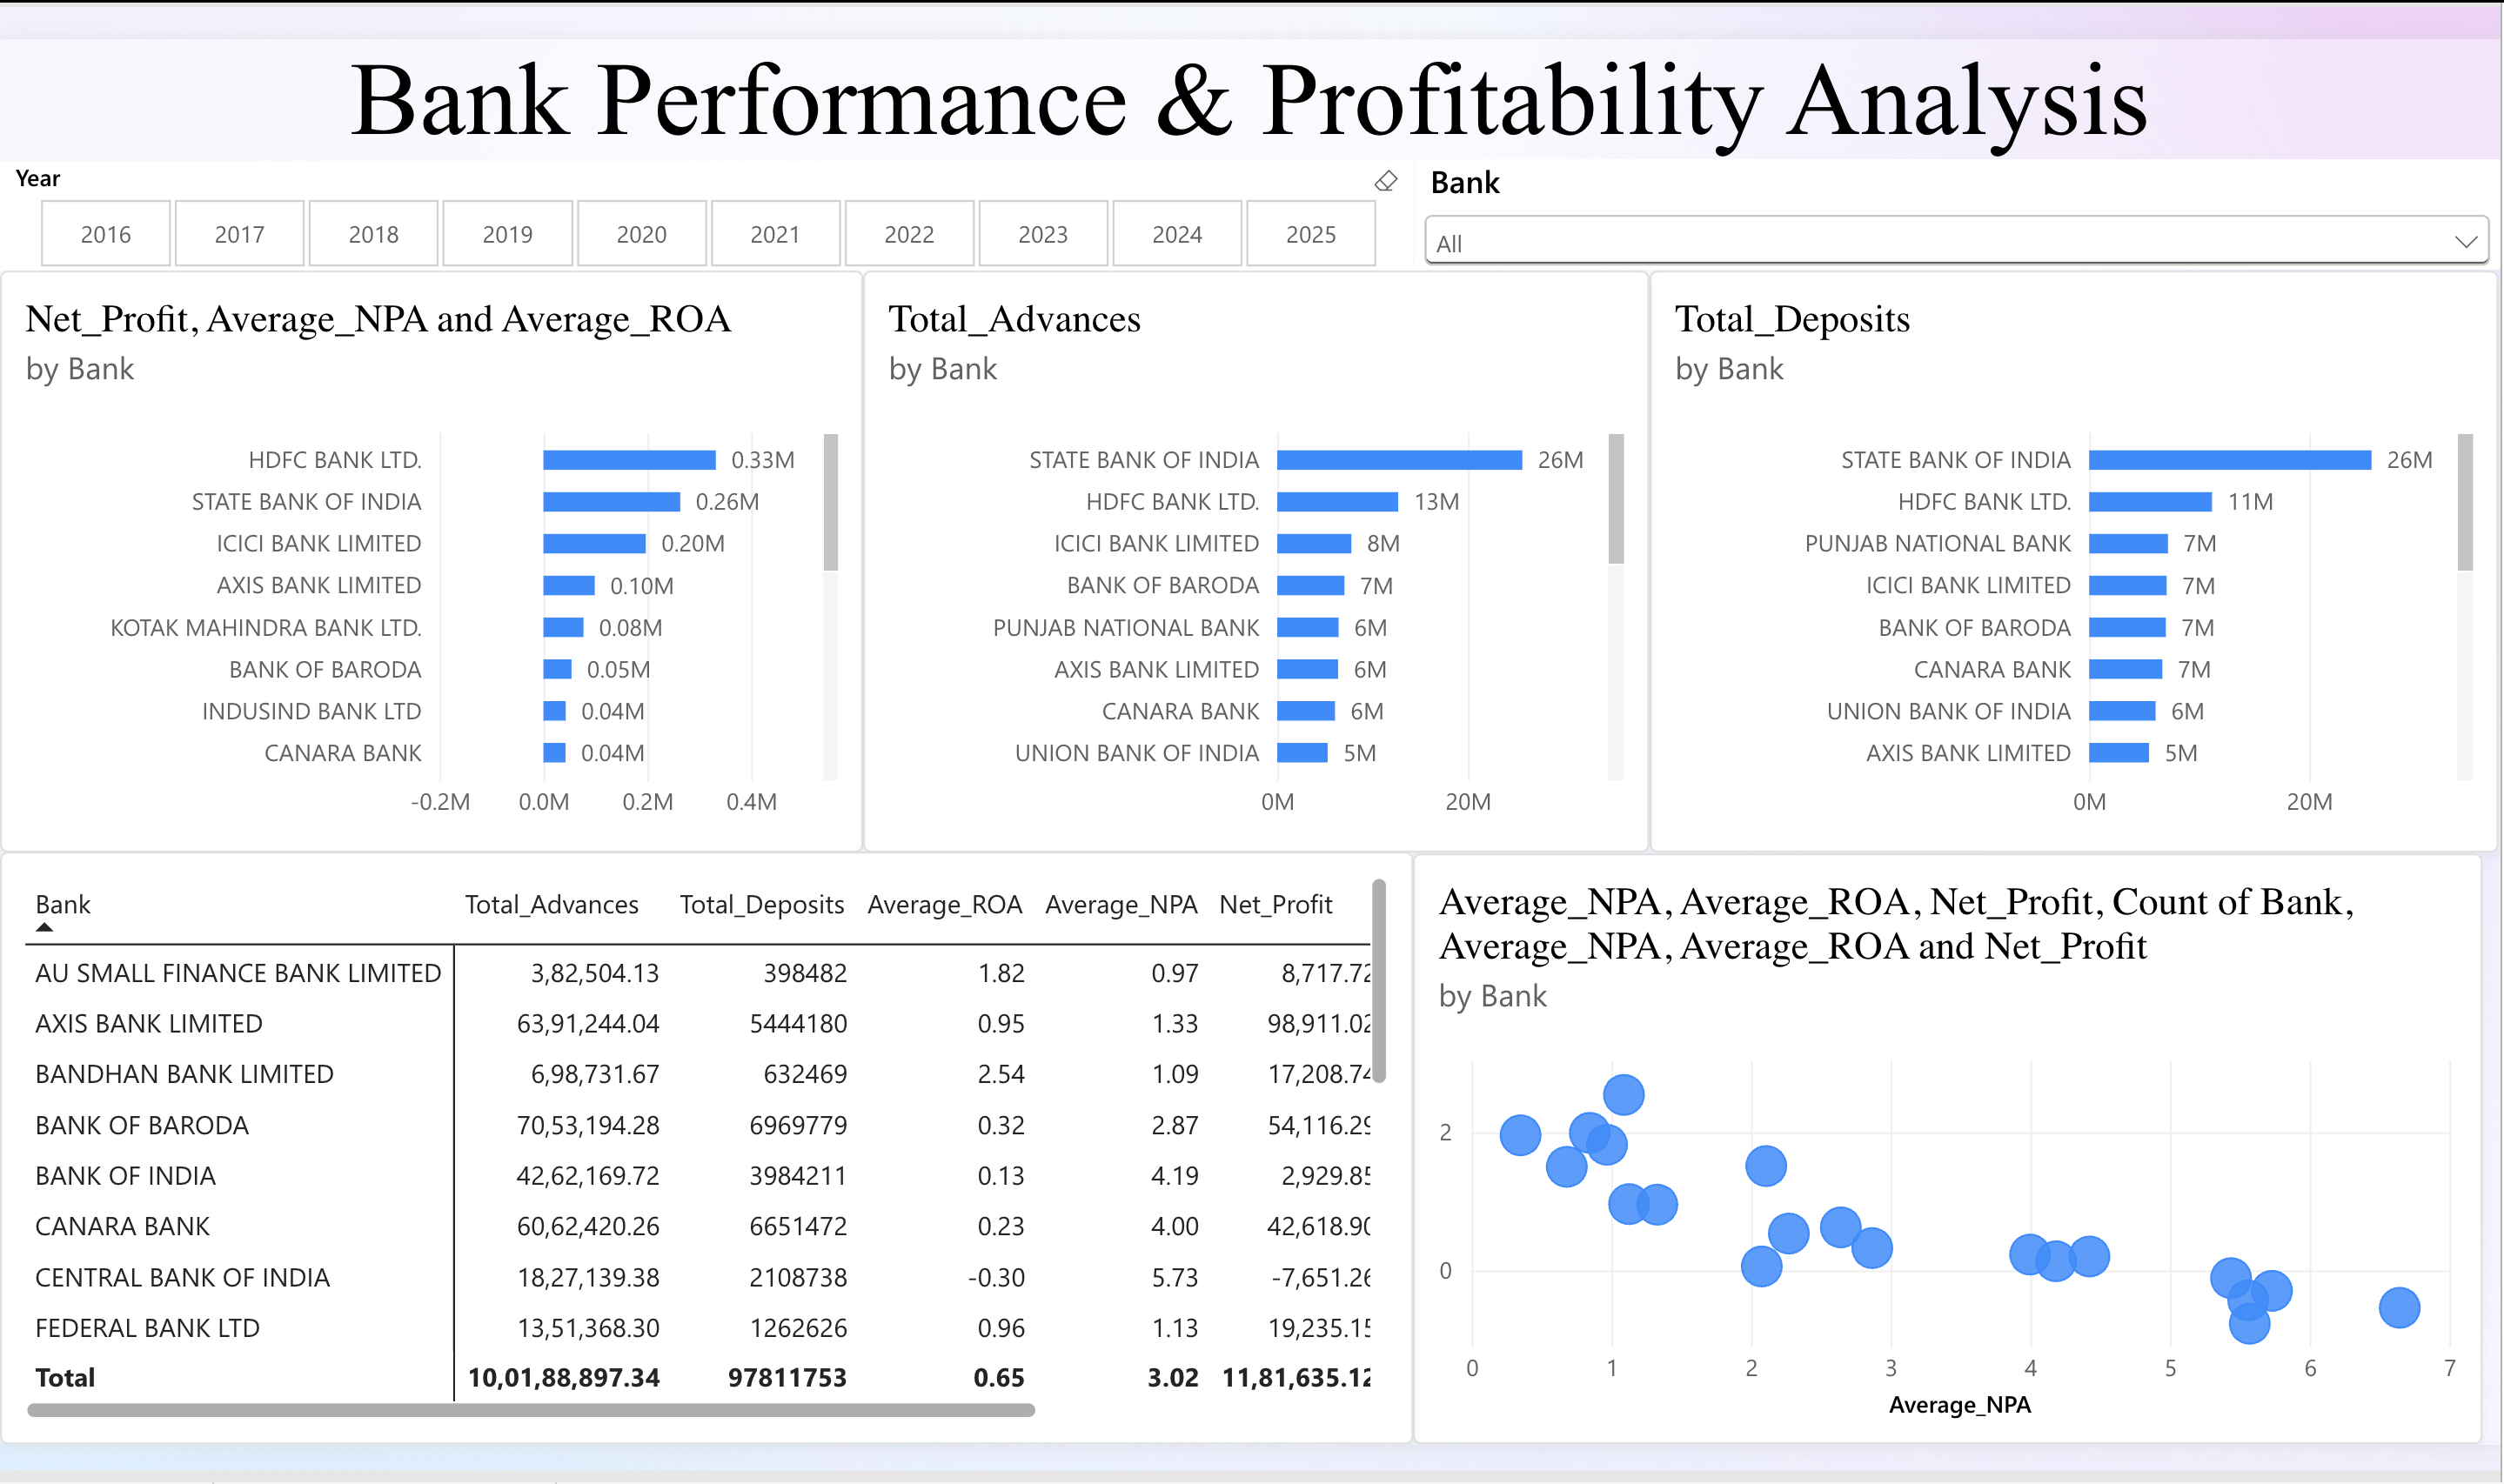

Layout of this report page (visuals, bound fields, positions):
{"tool":"powerbi","page":{"name":"Page 2","canvas":[1280,720],"ordinal":1},"visuals":[{"type":"clusteredBarChart","fields":{"Category":["EXPENSES.Bank"],"Y":["EXPENSES.Net_Profit"]},"box":[0,118.6,442.2,298.1],"z":0},{"type":"clusteredBarChart","fields":{"Category":["LIABILITIES.Bank"],"Y":["LIABILITIES.Total_Deposits"]},"box":[844.5,118.6,434.4,298.1],"z":1000},{"type":"clusteredBarChart","fields":{"Category":["ASSETS.Bank"],"Y":["ASSETS.Total_Advances"]},"box":[442.2,118.6,402.3,298.1],"z":2000},{"type":"scatterChart","fields":{"Category":["Ratio.Bank"],"Size":["EXPENSES.Net_Profit"],"X":["Ratio.Average_NPA"],"Y":["Ratio.Average_ROA"]},"box":[723.7,416.7,547.5,302.5],"z":3000},{"type":"pivotTable","fields":{"Rows":["BankTable.Bank"],"Values":["ASSETS.Total_Advances","LIABILITIES.Total_Deposits","Ratio.Average_ROA","Ratio.Average_NPA","EXPENSES.Net_Profit","Min(Ratio.Performace_Status)"]},"box":[0,416.3,723.6,303.5],"z":3001},{"type":"slicer","fields":{"Values":["YearTable.Year"]},"box":[0,62.2,723.6,55.8],"z":3002},{"type":"slicer","fields":{"Values":["BankTable.Bank"]},"box":[724.2,61.8,555.5,56.6],"z":3003},{"type":"textbox","box":[0,0,1279.7,61.8],"z":3004}]}

Visuals, with their boxes on the page's 1280x720 design canvas (x1, y1, x2, y2). These are canvas units, not pixel positions in the 2504x1484 screenshot, which may show the page scaled, cropped or inside an application window:
clusteredBarChart - EXPENSES.Bank x EXPENSES.Net_Profit: 0/119/442/417
clusteredBarChart - LIABILITIES.Bank x LIABILITIES.Total_Deposits: 844/119/1279/417
clusteredBarChart - ASSETS.Bank x ASSETS.Total_Advances: 442/119/844/417
scatterChart - Ratio.Bank x EXPENSES.Net_Profit: 724/417/1271/719
pivotTable - BankTable.Bank x ASSETS.Total_Advances: 0/416/724/720
slicer - YearTable.Year: 0/62/724/118
slicer - BankTable.Bank: 724/62/1280/118
textbox: 0/0/1280/62
